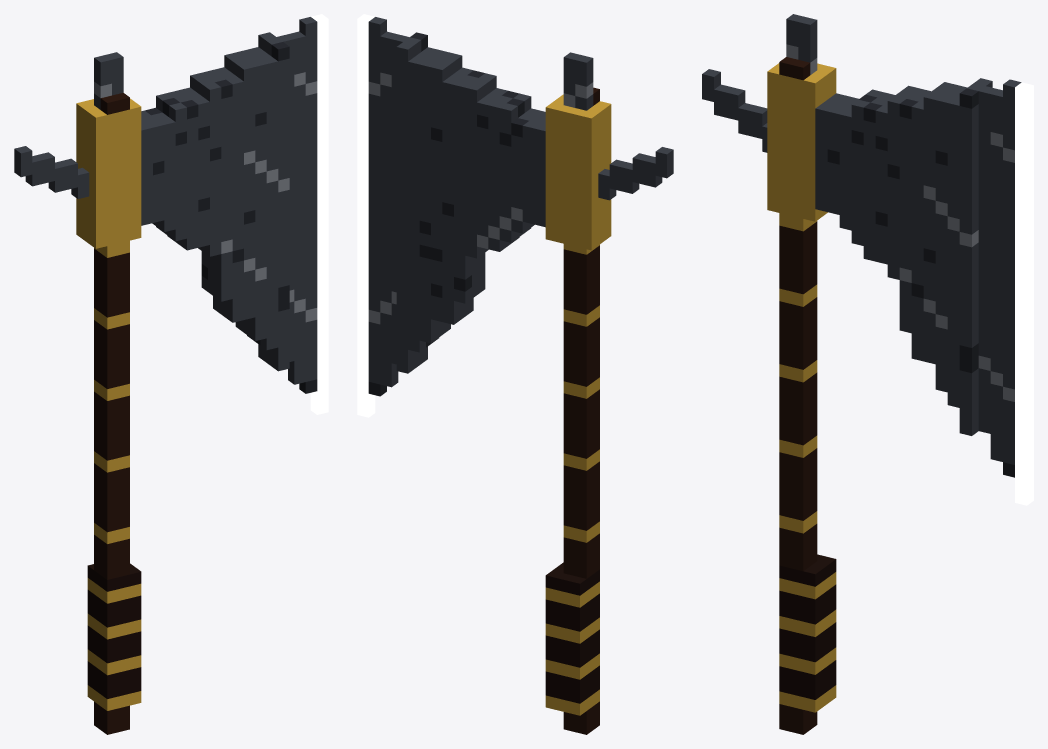
The model's file is axe_epic.glb.
The picture shows the model from 3 angles, left to right: view 1: azimuth 30°, elevation 25°; view 2: azimuth 150°, elevation 25°; view 3: azimuth 330°, elevation 25°; orthographic projection. The views are drawn at different scales.
Visible parts, largest first — view 1: axe_epic; view 2: axe_epic; view 3: axe_epic.
Boxes of the visible parts, box(x1,y1,x2,y2) form: axe_epic: box(14, 14, 328, 734); axe_epic: box(357, 14, 673, 734); axe_epic: box(702, 14, 1033, 734).
Size of the model in its own units: 0.405 by 0.84 by 0.045.
